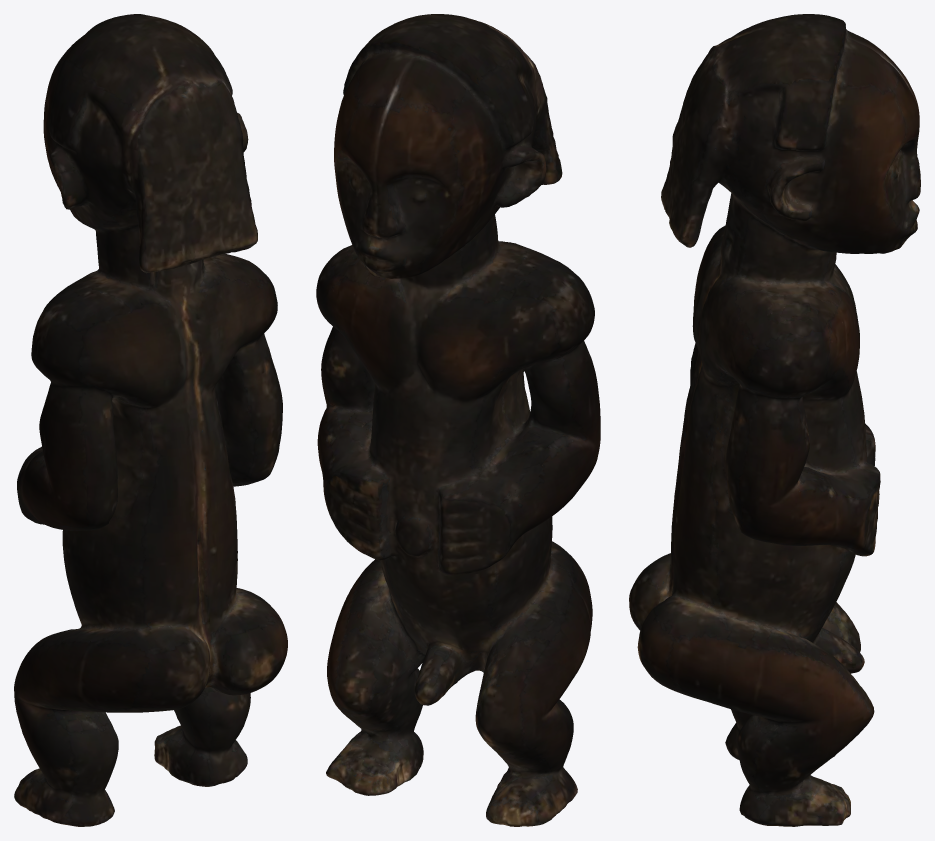
The model's file is preview.glb.
3 renders of one model, left to right at view 1: azimuth 30°, elevation 25°; view 2: azimuth 150°, elevation 25°; view 3: azimuth 270°, elevation 25°, orthographic.
Visible parts, largest first — view 1: Object_2; view 2: Object_2; view 3: Object_2.
Boxes of the visible parts, x1,y1,x2,y2 form: Object_2: (14, 14, 287, 826); Object_2: (316, 14, 600, 826); Object_2: (629, 14, 920, 826).
Size of the model in its own units: 177 by 519 by 178.
Materials: 1 (1 with a texture image).
